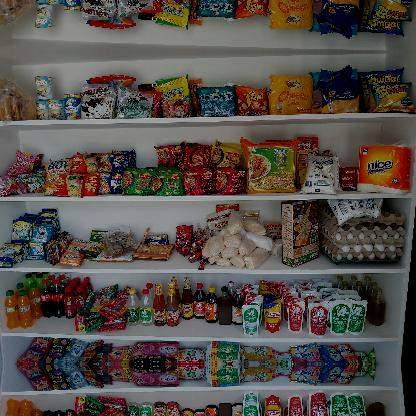Koko-Krunch: (279, 199, 323, 267)
